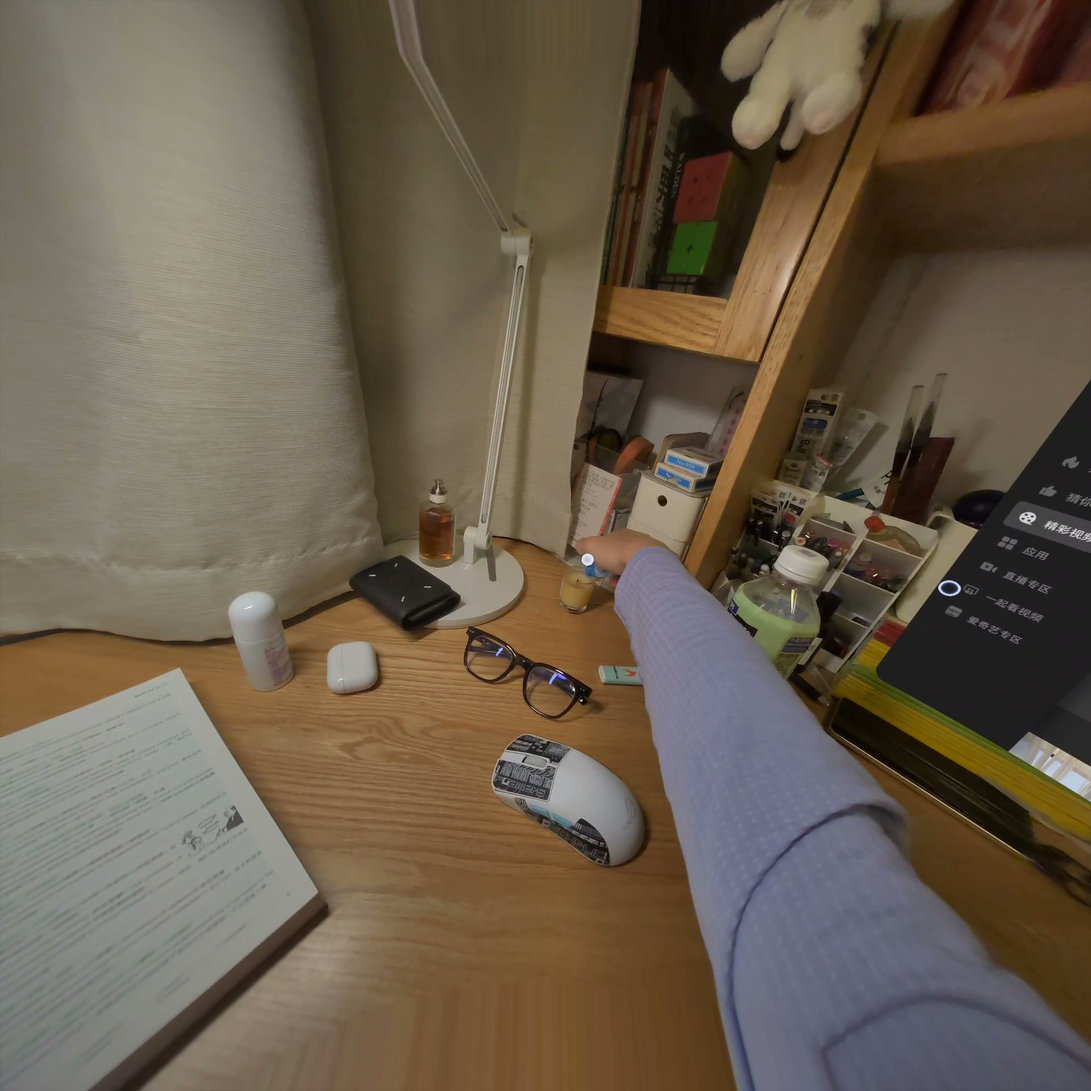lighter: (586, 565, 607, 578)
